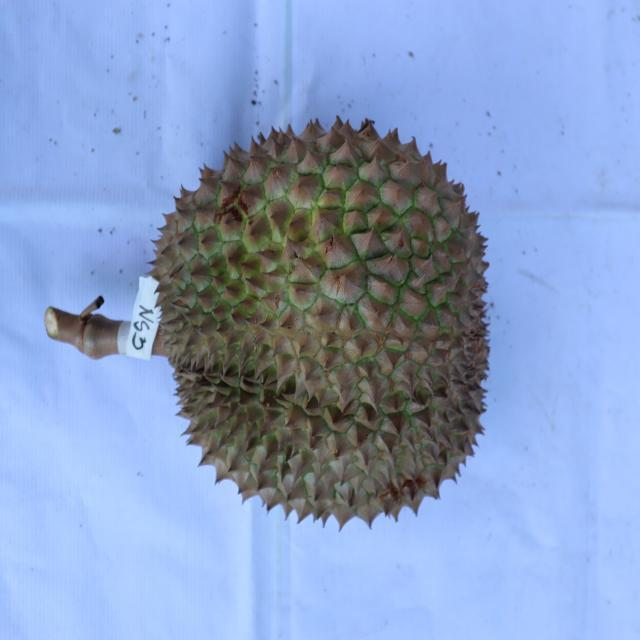mature: (150, 112, 492, 534)
